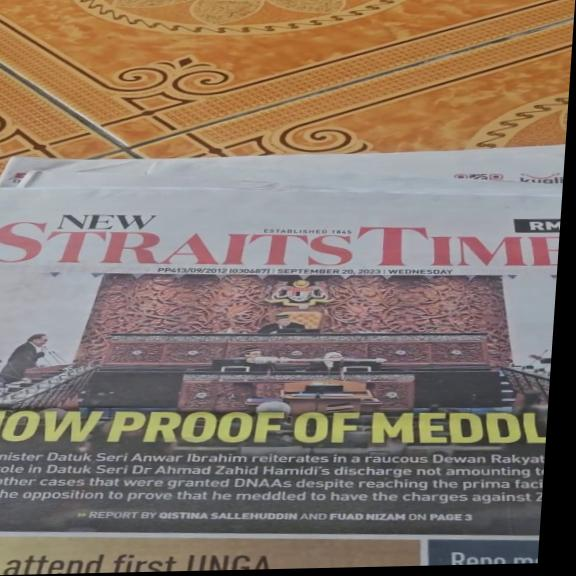Kertas: (0, 149, 553, 545)
